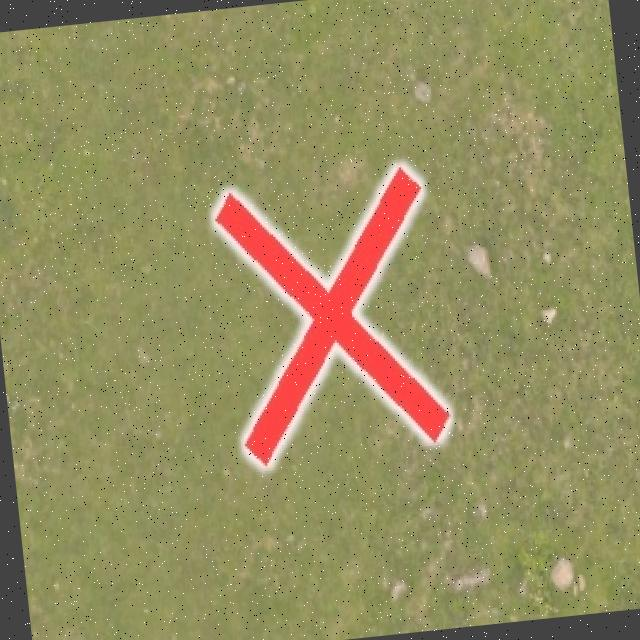x_marker: (210, 164, 450, 466)
